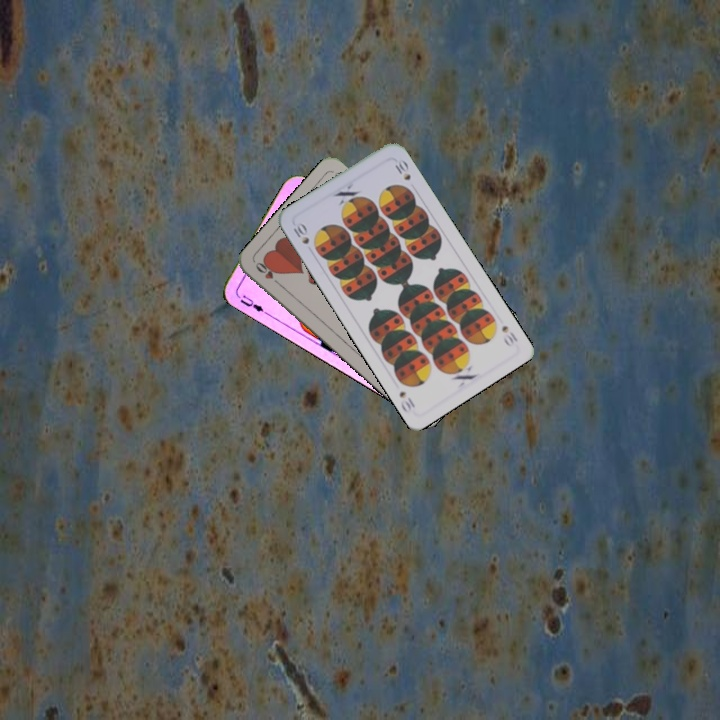EU: (233, 290, 270, 317)
HO: (251, 258, 285, 289)
S10: (289, 218, 312, 247), (497, 321, 520, 350)
